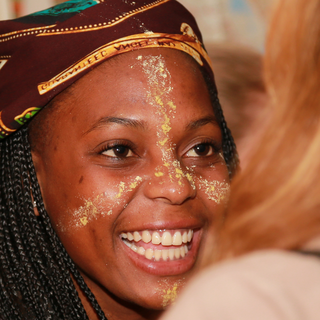eye: (93, 138, 140, 164), (183, 138, 226, 163)
